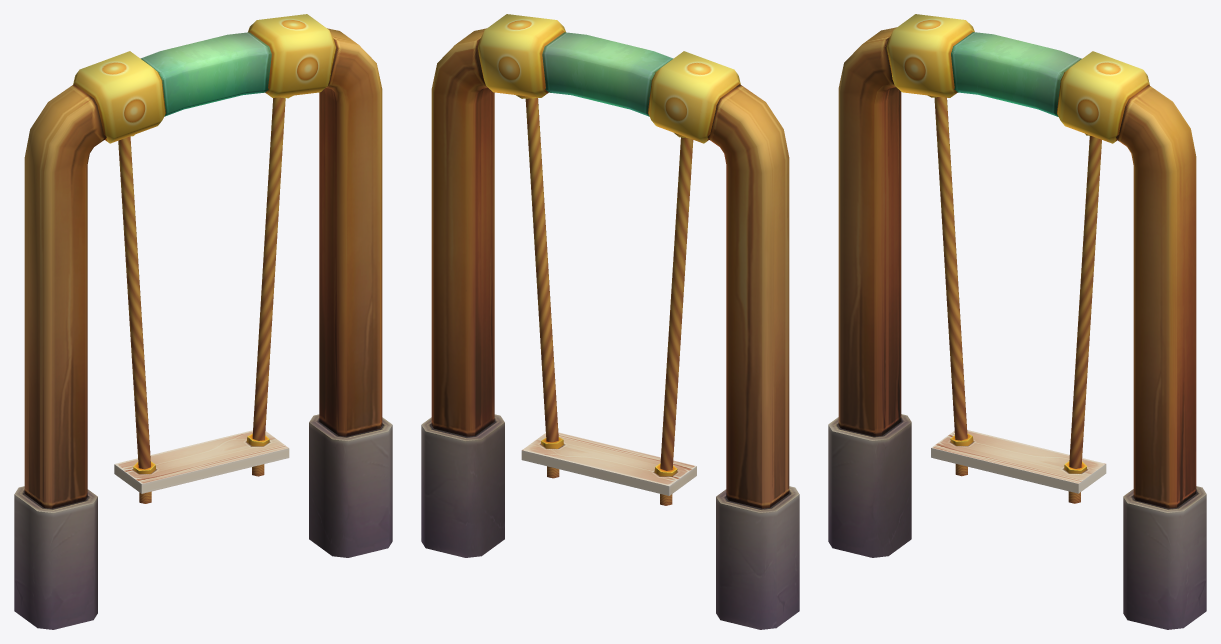
Rendered from SE_Swing_02.fbx.
3 renders of one model, left to right at view 1: azimuth 30°, elevation 25°; view 2: azimuth 150°, elevation 25°; view 3: azimuth 330°, elevation 25°, orthographic.
Visible parts, largest first — view 1: SE_Swing_02; view 2: SE_Swing_02; view 3: SE_Swing_02.
Part boxes in pixels (<box>): SE_Swing_02: <box>14,14,392,629</box>; SE_Swing_02: <box>421,14,799,629</box>; SE_Swing_02: <box>828,14,1206,629</box>.
Bounding box in the file's own units: 5.08 × 7.28 × 0.864.
